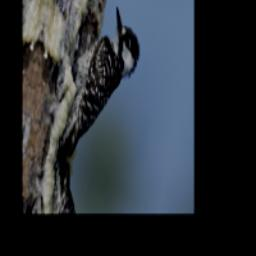Woodpecker: (40, 0, 147, 184)
